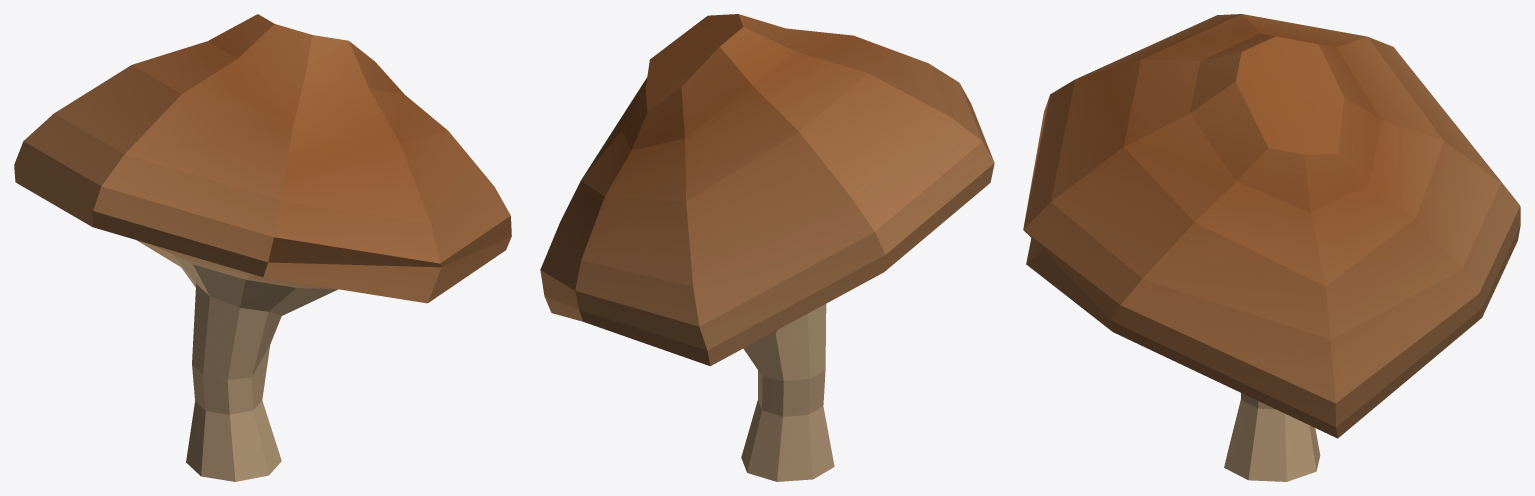
The model's file is brownShroom1.fbx.
3 views of the same model, side by side, from view 1: azimuth 30°, elevation 25°; view 2: azimuth 150°, elevation 25°; view 3: azimuth 270°, elevation 25° (orthographic). The views are drawn at different scales.
Parts seen in each view (by area): view 1: shroom2_lopsided; view 2: shroom2_lopsided; view 3: shroom2_lopsided.
Part boxes in pixels (x1=…): shroom2_lopsided: x1=14, y1=14, x2=511, y2=481; shroom2_lopsided: x1=540, y1=14, x2=994, y2=481; shroom2_lopsided: x1=1023, y1=14, x2=1520, y2=481.
Size of the model in its own units: 765 by 796 by 803.
